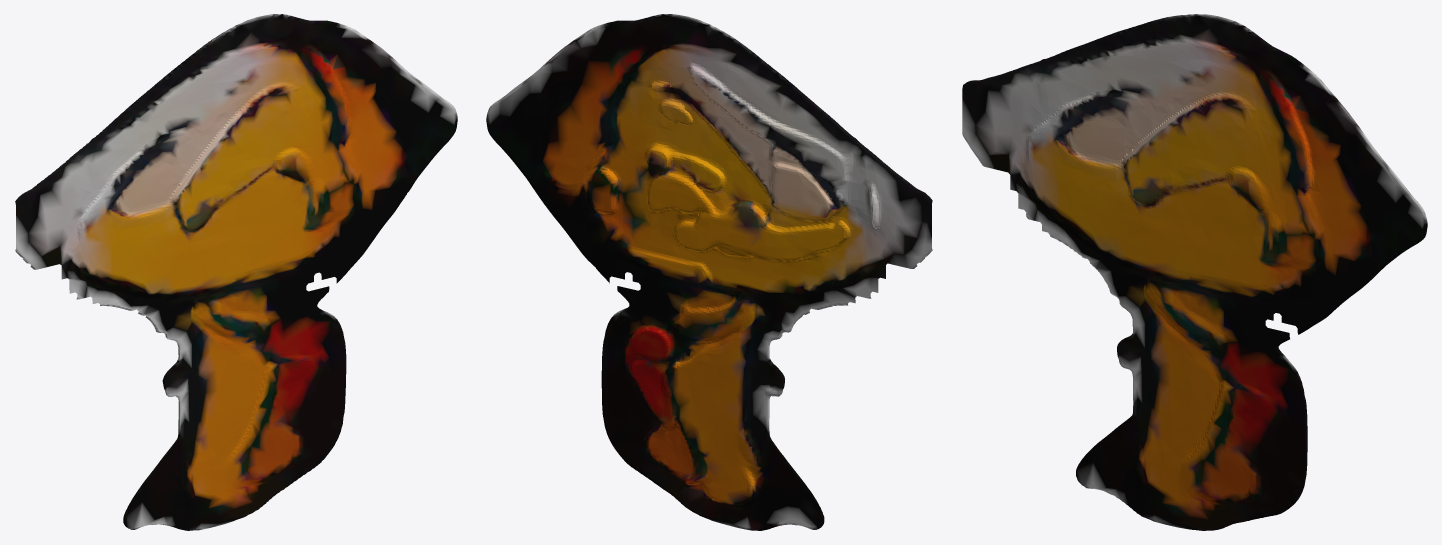
Rendered from mushroom_2.glb.
3 renders of one model, left to right at view 1: azimuth 30°, elevation 25°; view 2: azimuth 150°, elevation 25°; view 3: azimuth 330°, elevation 25°, orthographic. The views are drawn at different scales.
Parts seen in each view (by area): view 1: geometry_0; view 2: geometry_0; view 3: geometry_0.
Part boxes in pixels (x1,y1,x2,y2): geometry_0: [15, 14, 457, 530]; geometry_0: [486, 14, 932, 530]; geometry_0: [962, 14, 1427, 530].
Bounding box in the file's own units: 0.583 × 0.625 × 0.0197.
